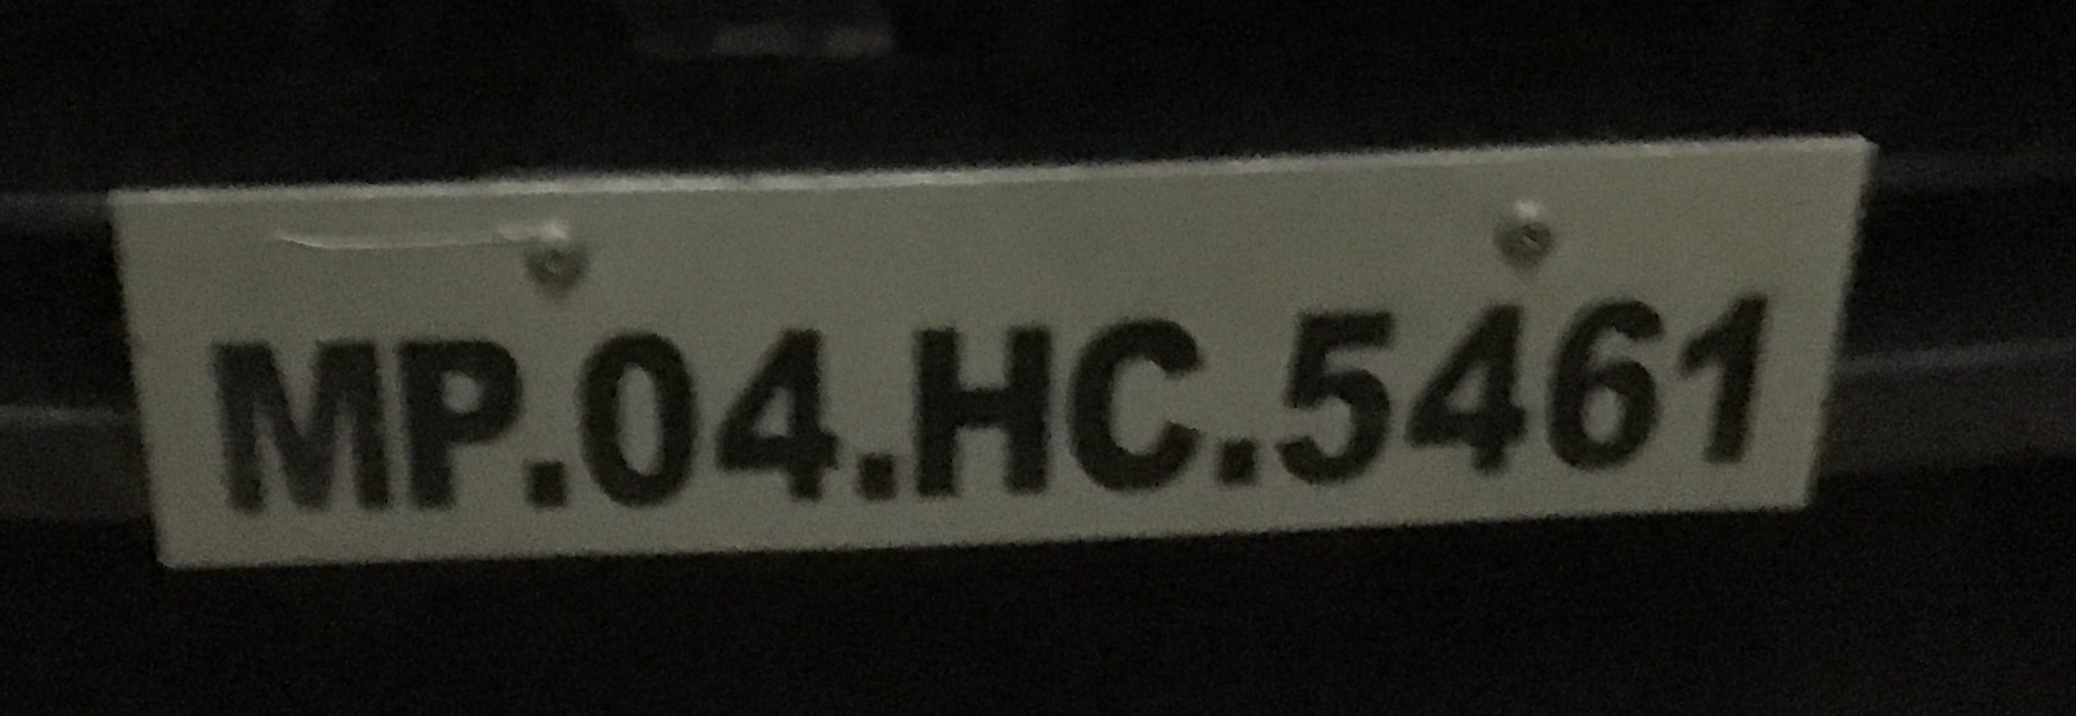numberplate: (111, 134, 1873, 572)
